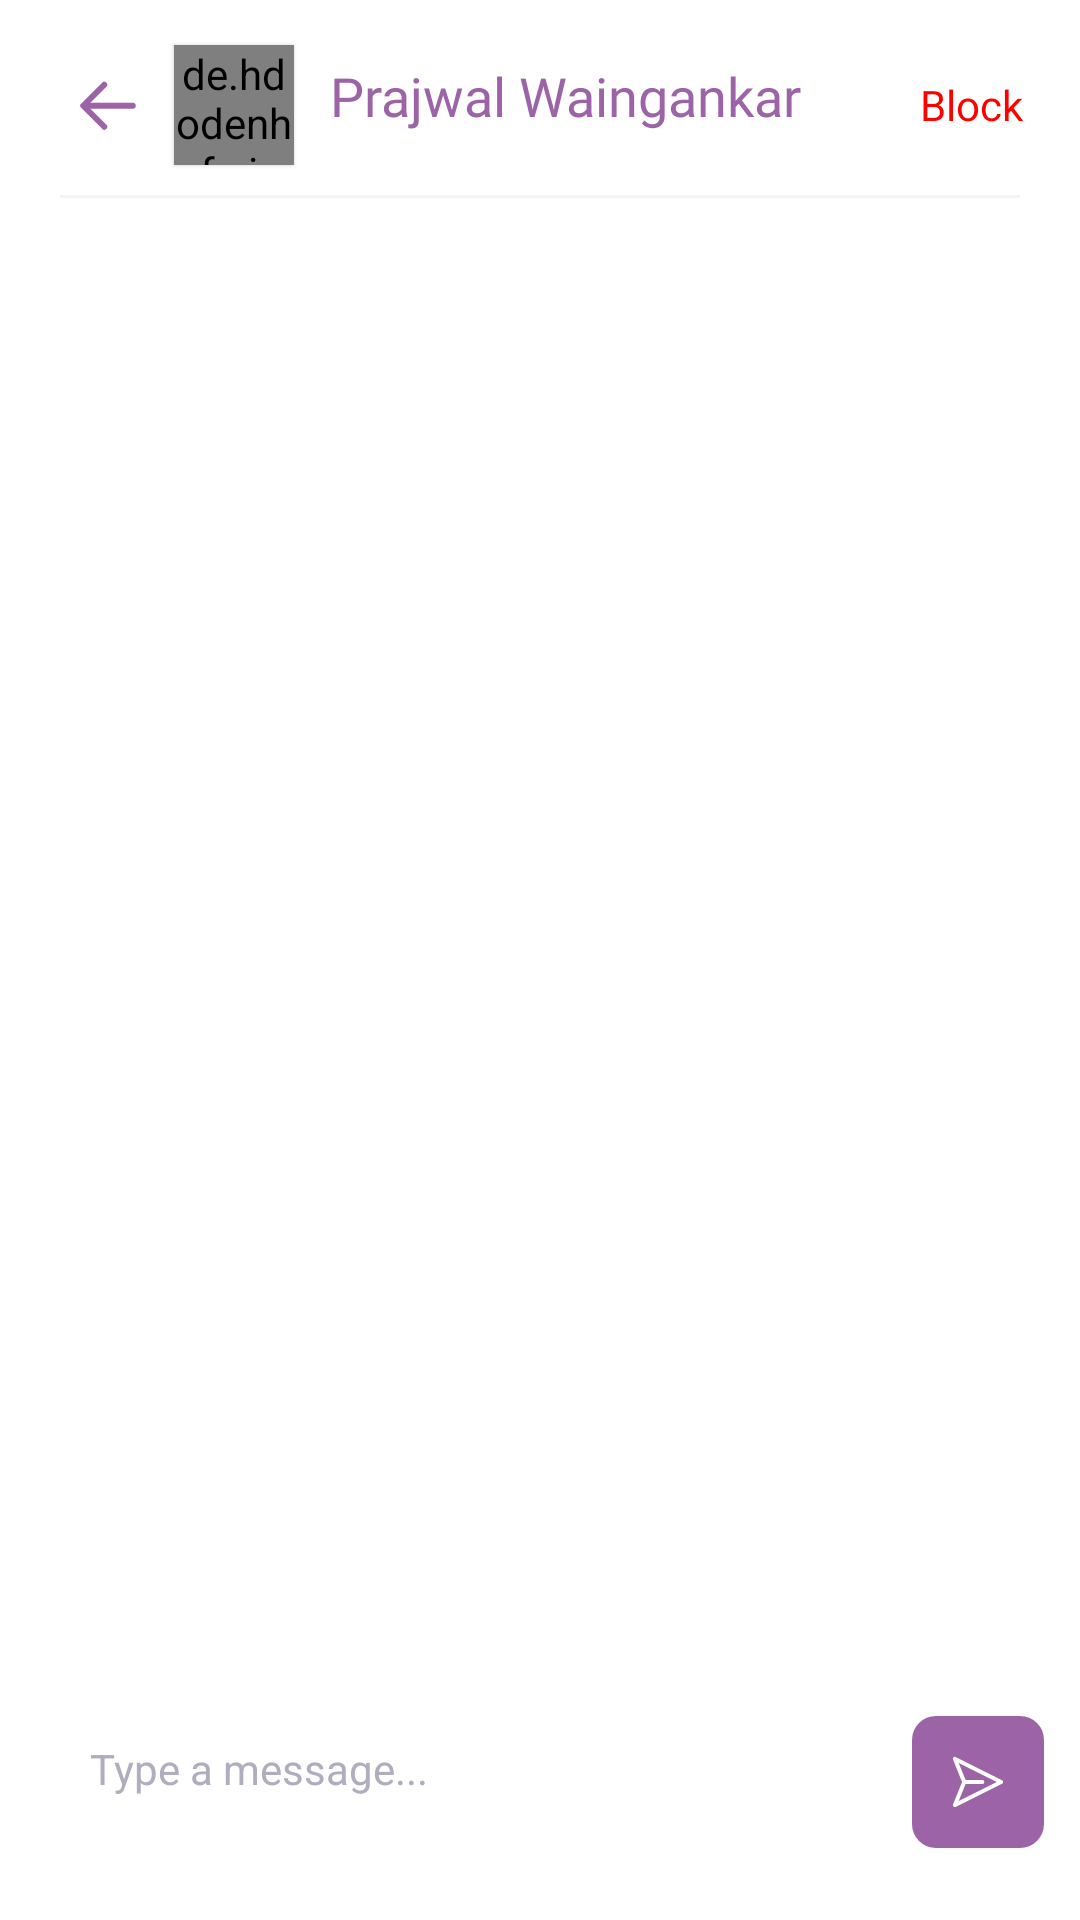

Screen size 1080x1920. Icon name, then its center in pixels as [x,y]:
send: [978,1782]
